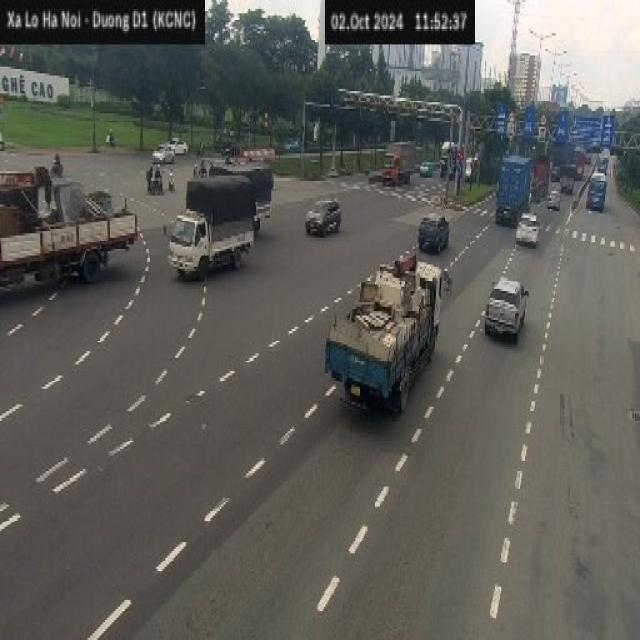car: (482, 266, 530, 342), (415, 212, 452, 254), (304, 196, 341, 236), (516, 200, 542, 251)
truck: (323, 249, 448, 415), (0, 164, 139, 294), (165, 174, 259, 280)
